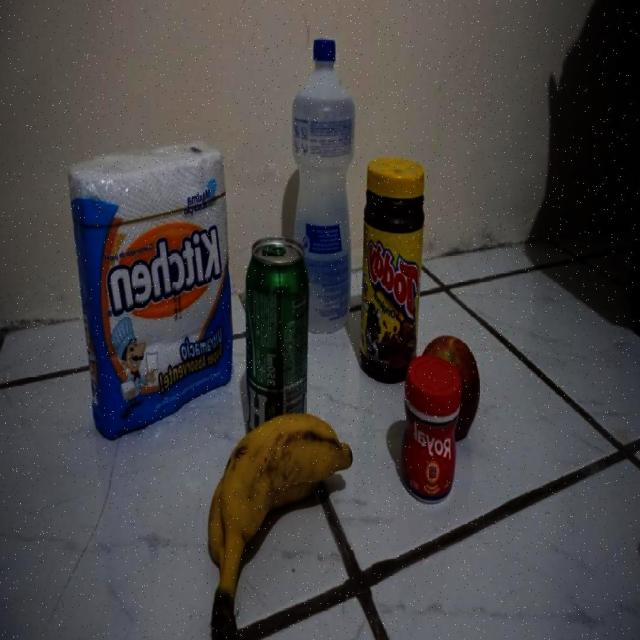AlcoholBottle: (290, 39, 354, 333)
Apple: (420, 333, 478, 440)
Banana: (205, 415, 352, 640)
BeerCan: (245, 235, 308, 430)
ChocolatePowder: (359, 159, 426, 385)
Napkin: (68, 140, 231, 437)
Yeast: (399, 354, 460, 504)
